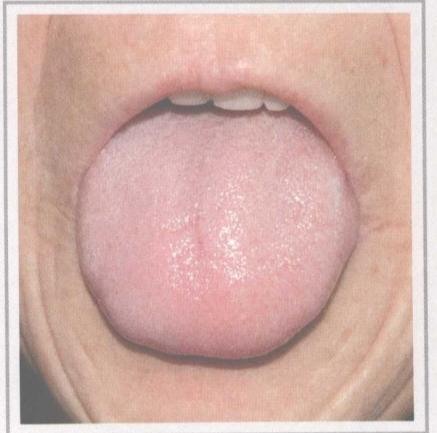baitaishe: (78, 101, 359, 360)
pangdashe: (78, 101, 359, 360)
